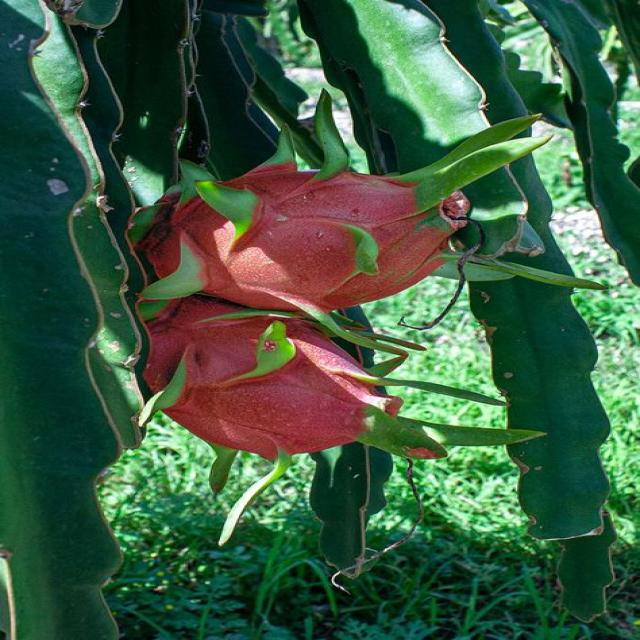Thanh Long: (126, 167, 555, 311), (112, 304, 429, 453)
